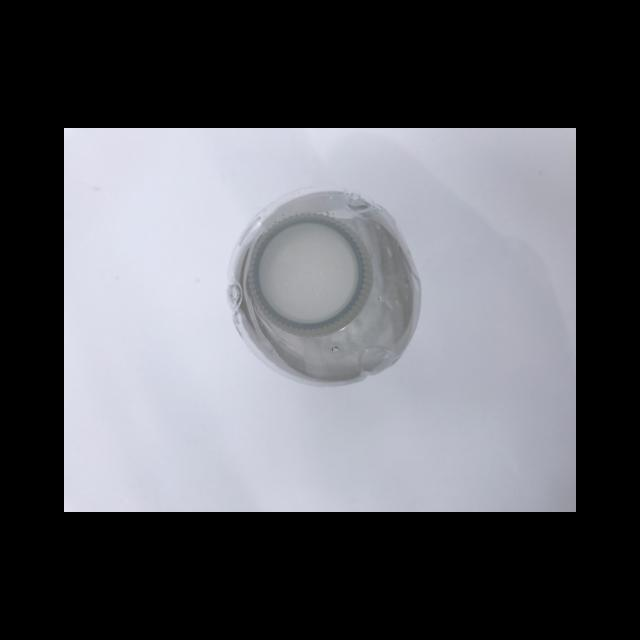plastic: (228, 187, 423, 385), (246, 213, 370, 336)
